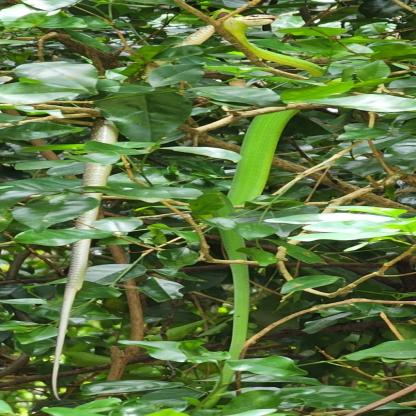Snake: (51, 116, 117, 400), (221, 229, 259, 400), (232, 112, 284, 210), (223, 9, 281, 45)
